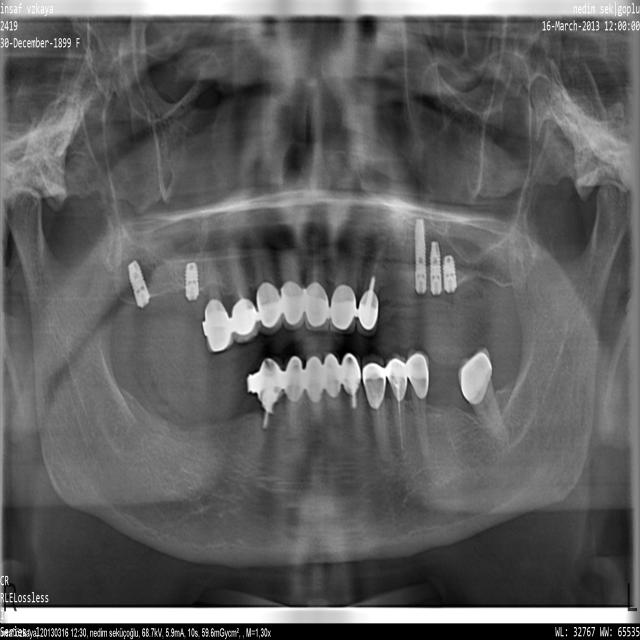Canine: (357, 237, 392, 337), (227, 235, 258, 344), (362, 354, 392, 464)
Incisores: (246, 217, 282, 336), (330, 232, 365, 334), (341, 354, 370, 451), (306, 210, 329, 332), (284, 355, 311, 449), (324, 352, 348, 441), (279, 248, 304, 331), (306, 353, 329, 438)
Premolars: (204, 243, 232, 354), (386, 351, 410, 462), (408, 350, 429, 456)
molars: (457, 345, 509, 448), (128, 261, 149, 309), (415, 217, 427, 295), (429, 241, 442, 296), (186, 261, 199, 301), (443, 255, 456, 294)
